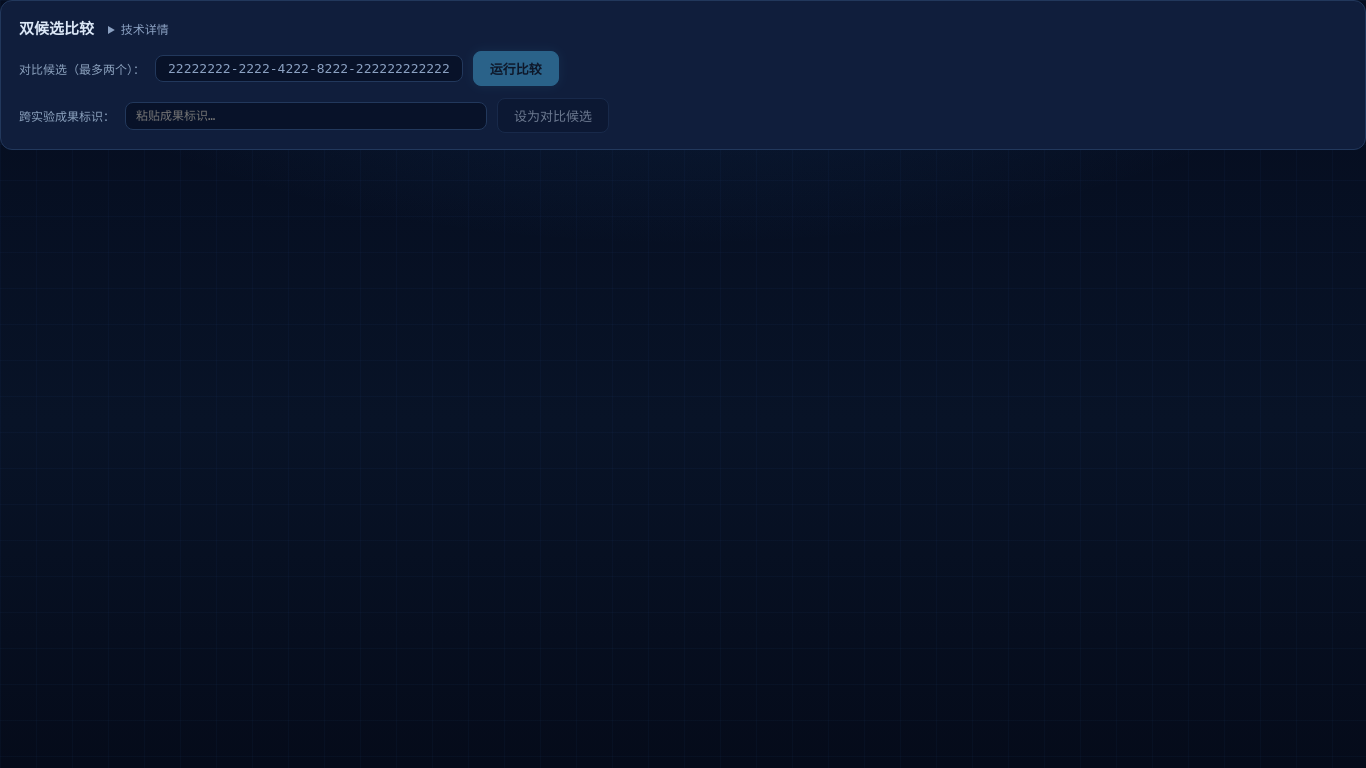
Test: CandidateComparison 跨实验候选输入 › 404（成果 ID 不存在）：显示后端错误封套 code 与 message
Type "33333333-3333-4333-8333-333333333333" into the field with test id "comparison-external-input".
click(306, 116); type("33333333-3333-4333-8333-333333333333")  # box [125,102,487,130]
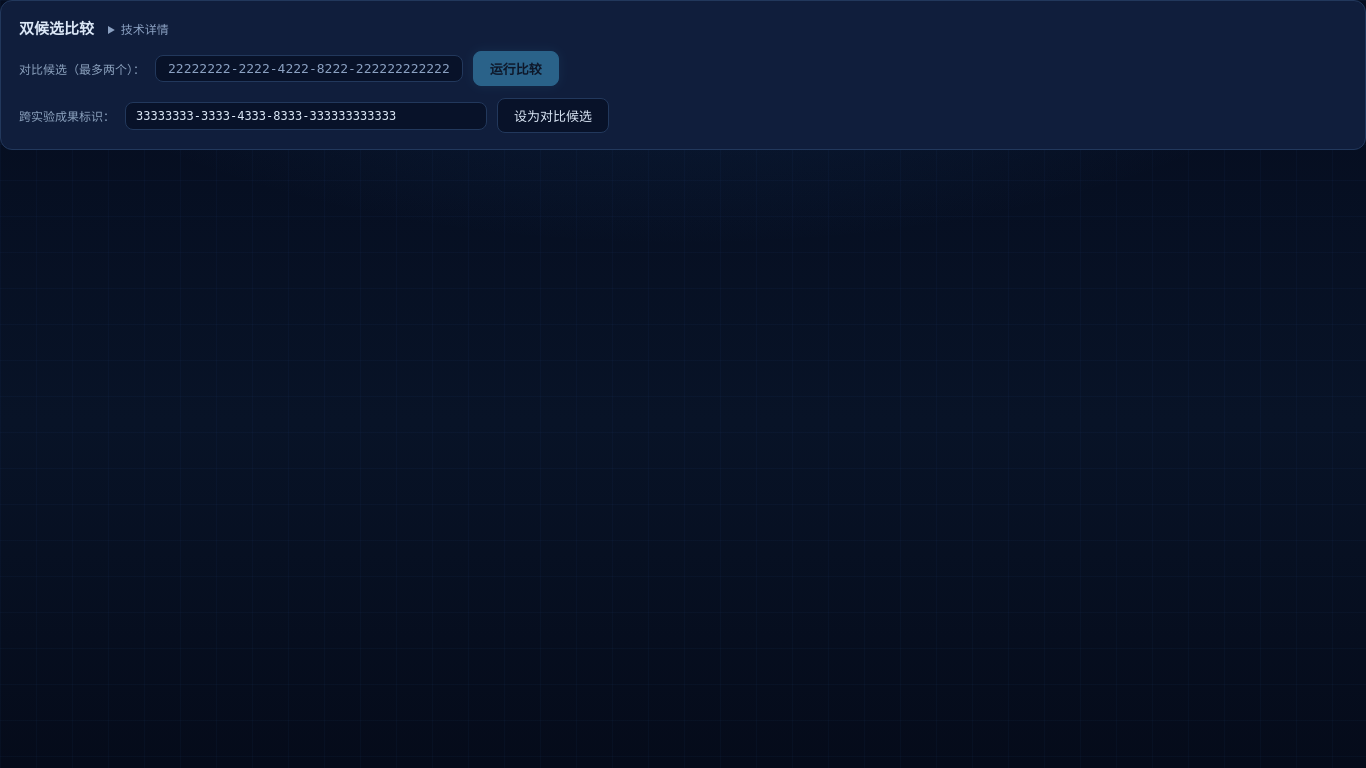
Click the button with test id "comparison-external-apply".
click(553, 116)  # box [497,98,609,133]
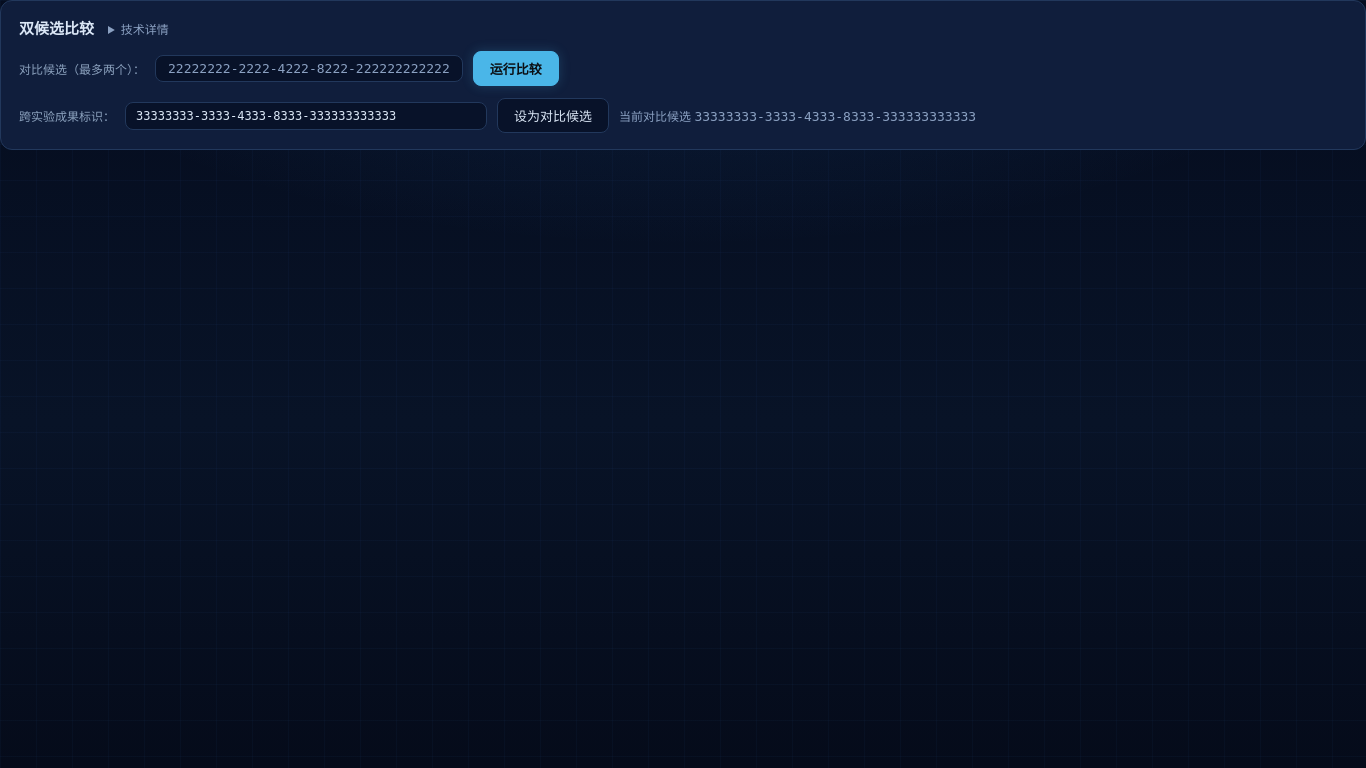
Click the button with test id "comparison-run".
click(516, 68)  # box [473,51,559,86]
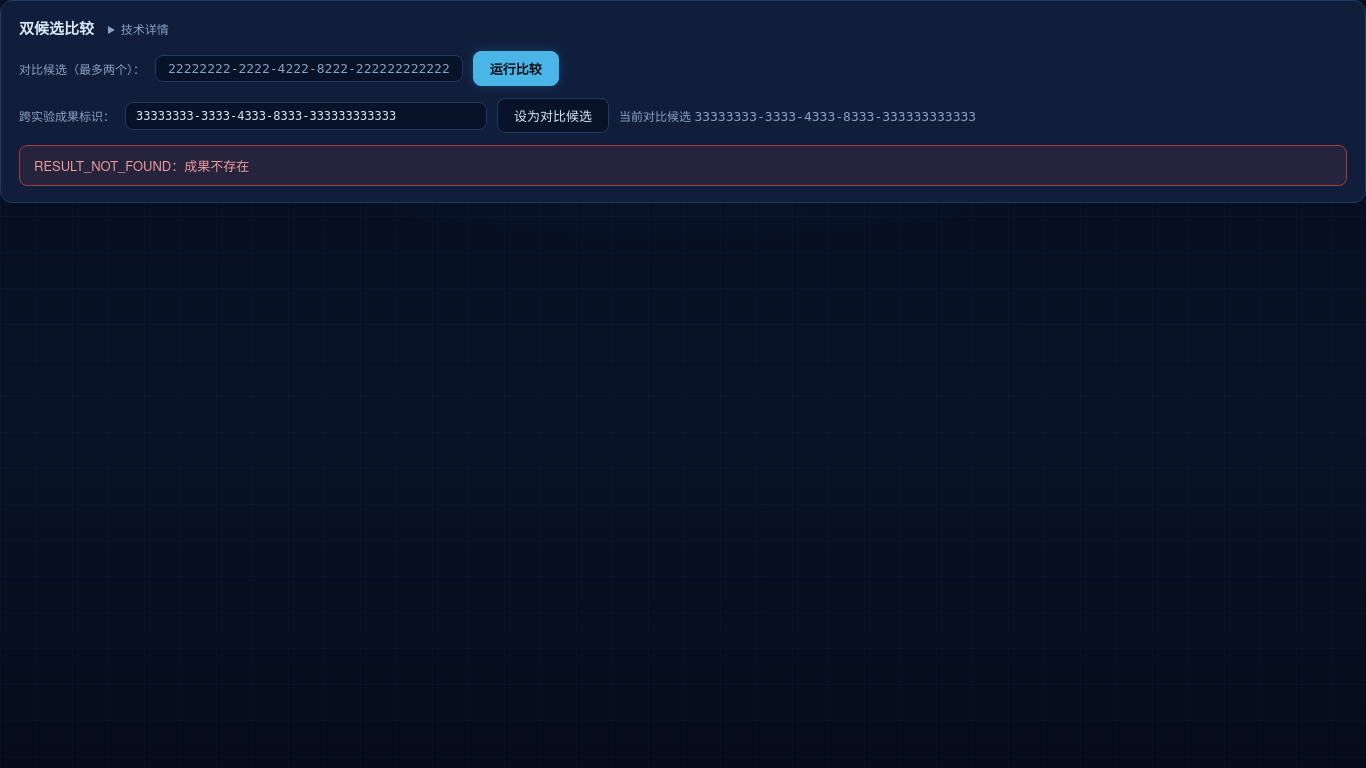
expect the text "RESULT_NOT_FOUND：成果不存在" is shown: met, box [19,145,1347,186]
expect the text with test id "comparison-error" shows "RESULT_NOT_FOUND": met, box [34,156,249,175]
expect the text with test id "comparison-error" shows "成果不存在": met, box [34,156,249,175]
